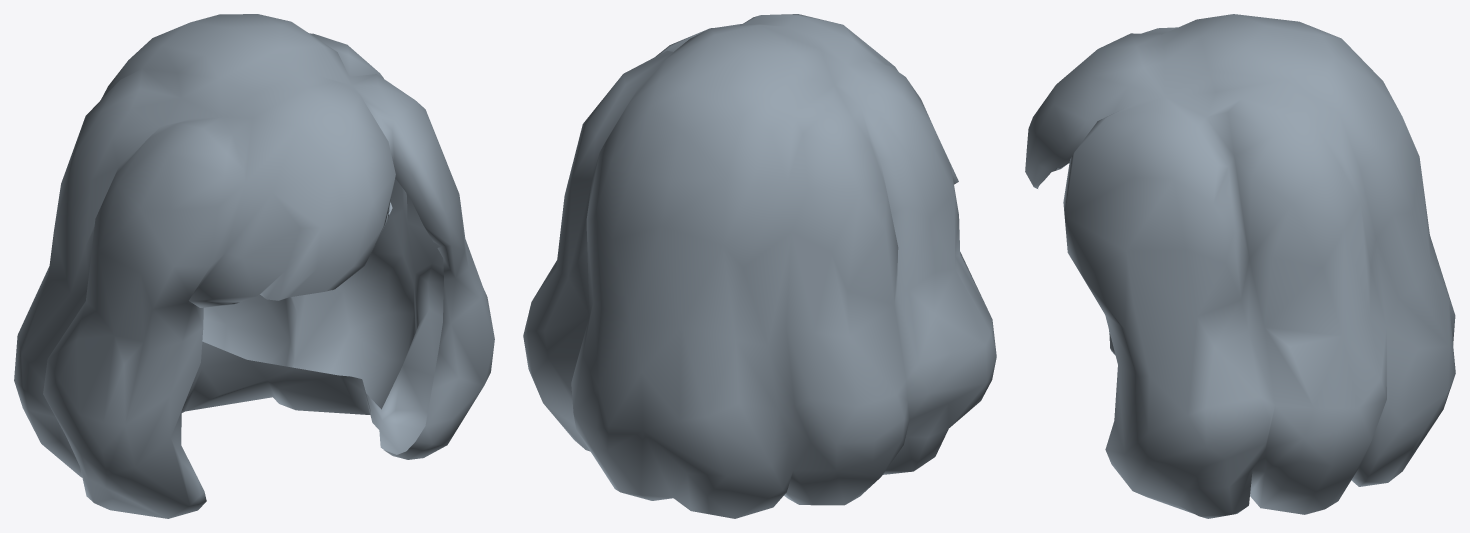
The model's file is cabelo_3.glb.
3 renders of one model, left to right at view 1: azimuth 30°, elevation 25°; view 2: azimuth 150°, elevation 25°; view 3: azimuth 270°, elevation 25°, orthographic. The views are drawn at different scales.
Visible parts, largest first — view 1: cabelo_3; view 2: cabelo_3; view 3: cabelo_3.
Part boxes in pixels (x1=…): cabelo_3: x1=14, y1=14, x2=494, y2=518; cabelo_3: x1=523, y1=14, x2=996, y2=518; cabelo_3: x1=1025, y1=14, x2=1455, y2=518.
Bounding box in the file's own units: 0.2257 × 0.2218 × 0.2045.
